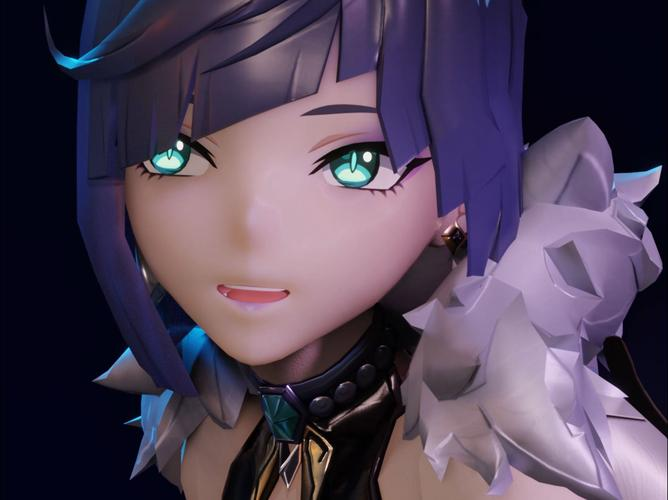夜兰: (39, 2, 591, 500)
